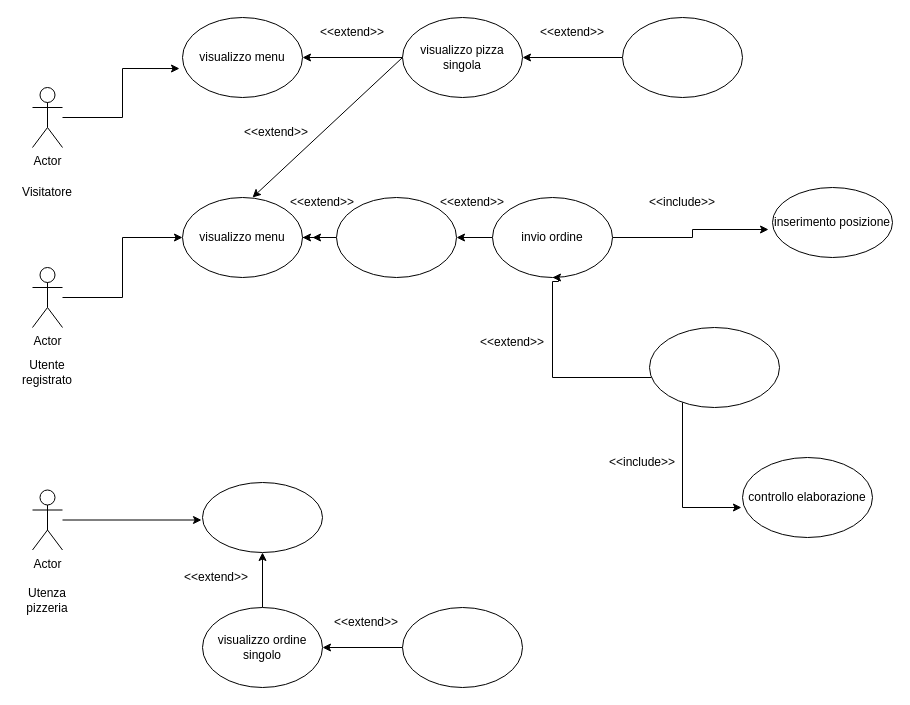
Some shapes in this 910 by 705 pixel diagram are drawn without their labels. The shapes that lost their labels are listed below. From the top down, each one's box as (x1, y1, x2, y2) in pixels, then its label:
(622, 16, 742, 98): condivido pizza
(336, 196, 456, 278): aggiunta all'ordine
(648, 326, 780, 408): disdetta ordine
(202, 482, 322, 552): visualizzo ordini
(402, 606, 522, 688): cambio stato ordine
